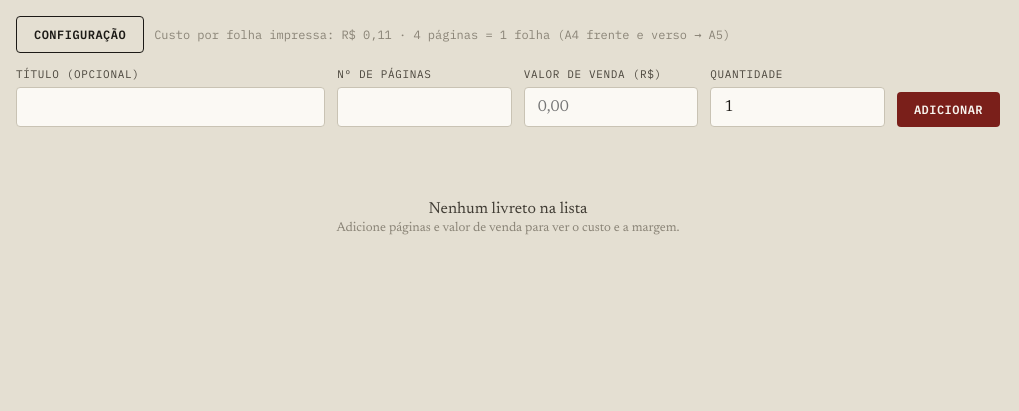
<CalculadoraLivretos /> › adiciona itens, mostra totais e persiste a lista
In the field labelled "Nº de páginas": [424, 107] box [337,87,512,127], type "16"
In the field labelled "Valor de venda (R$)": [611, 107] box [524,87,698,127], type "5,00"
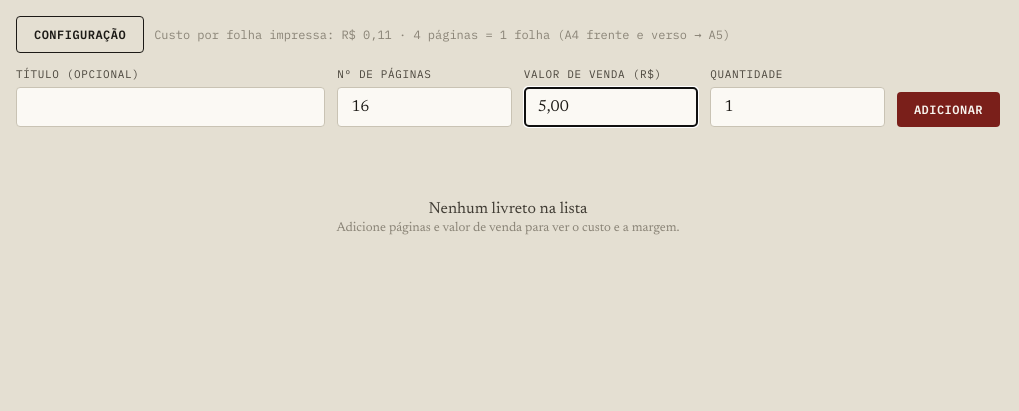
Replace the text in the field labelled "Quantidade" with "2": [798, 107] box [710,87,885,127]
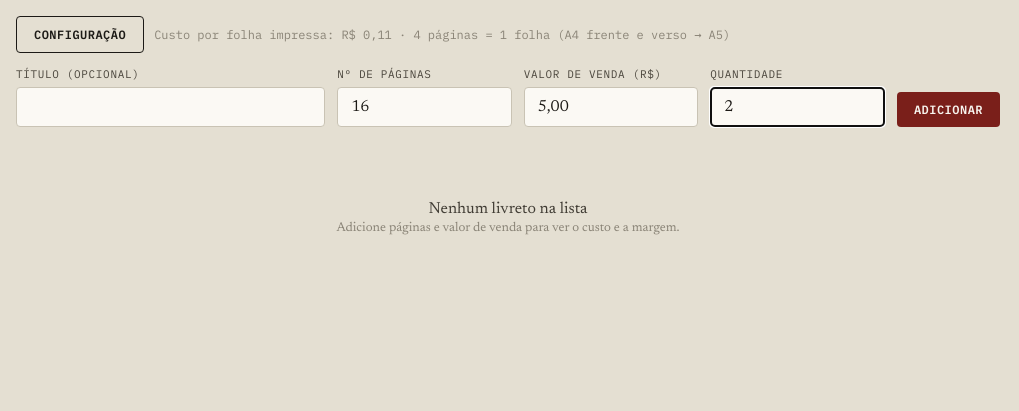
Click the button "Adicionar": [948, 110] box [897,92,1000,127]
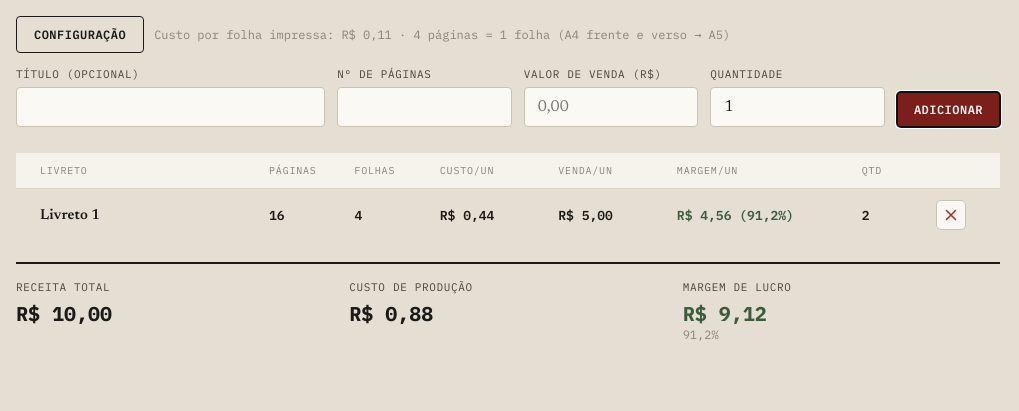
In the field labelled "Nº de páginas": [424, 107] box [337,87,512,127], type "8"
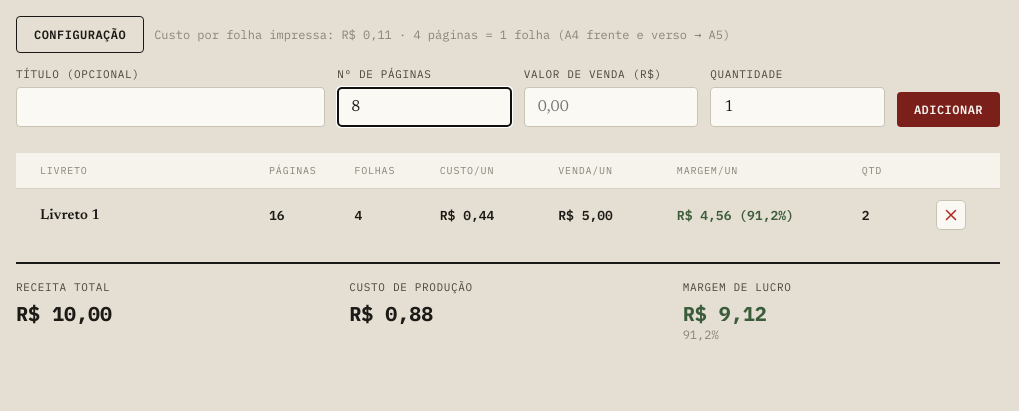
In the field labelled "Valor de venda (R$)": [611, 107] box [524,87,698,127], type "3,00"
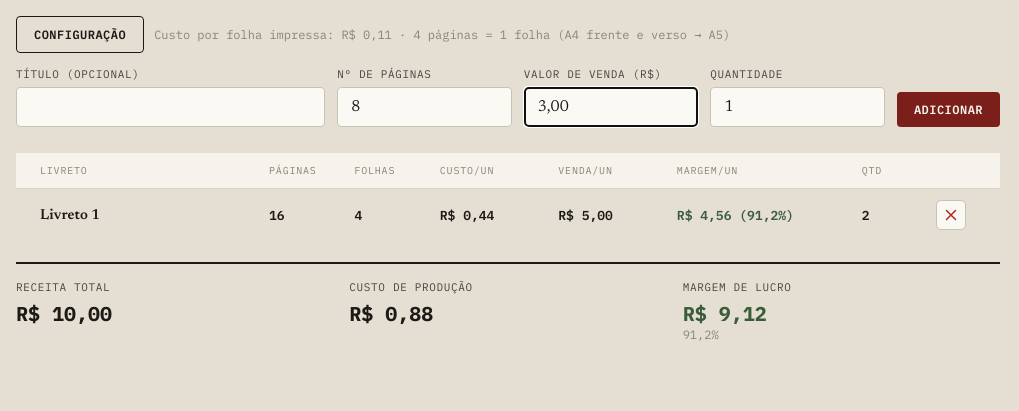
Click the button "Adicionar": [948, 110] box [897,92,1000,127]
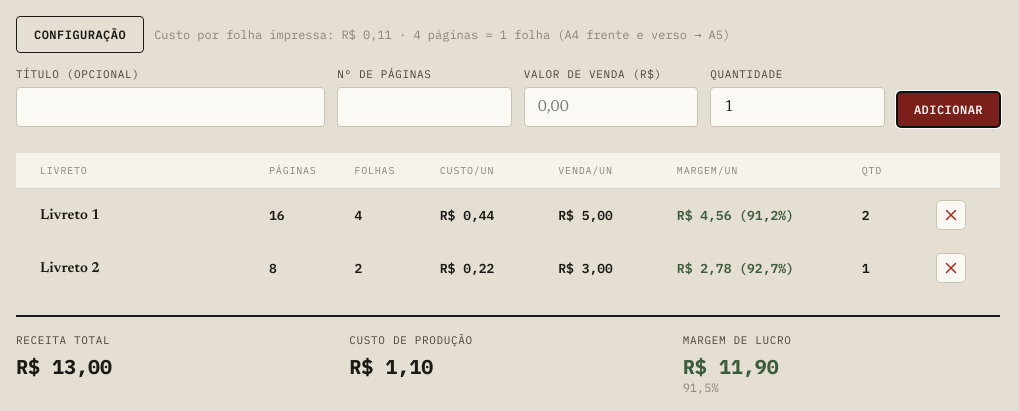
Now the text "R$ 13,00" is shown, box [16,353,112,380]
Now the text "R$ 1,10" is shown, box [349,353,433,380]
Now the text "R$ 11,90" is shown, box [683,353,779,380]
